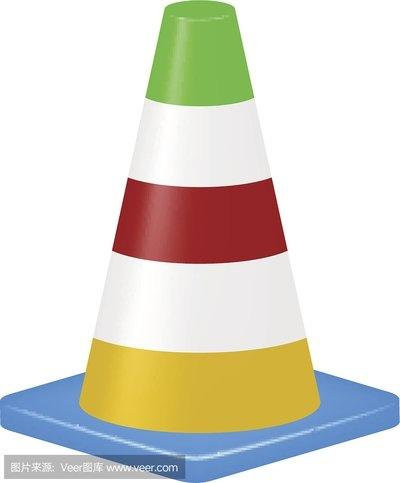cone_barrel: (79, 4, 330, 436)
